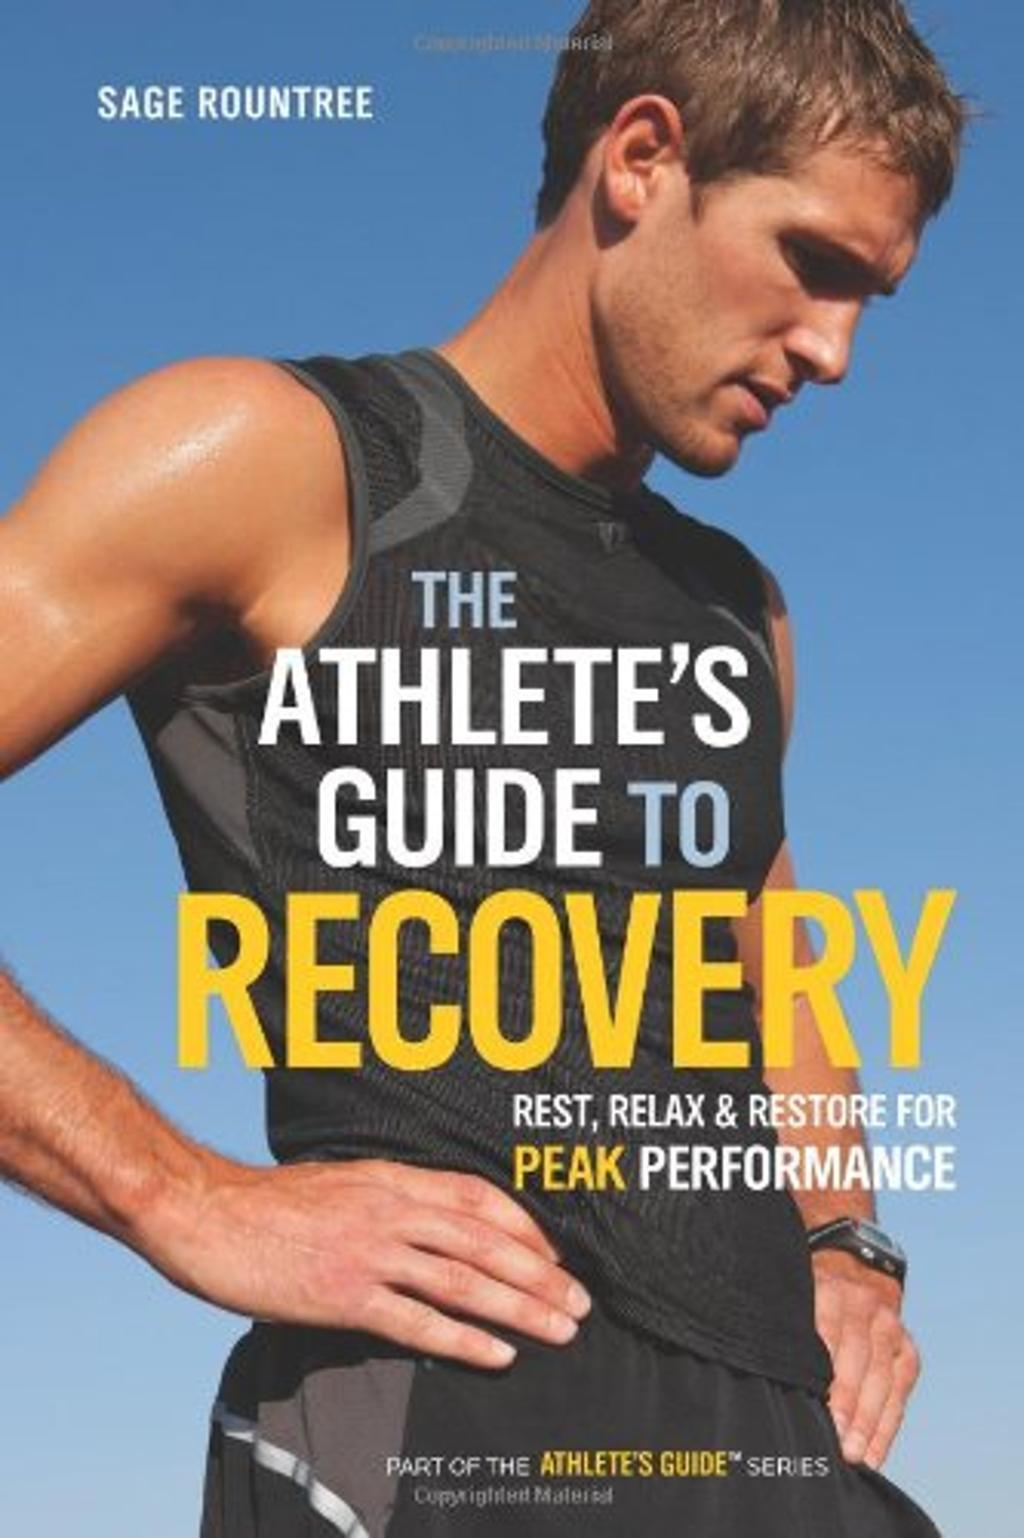face: (602, 142, 926, 475)
